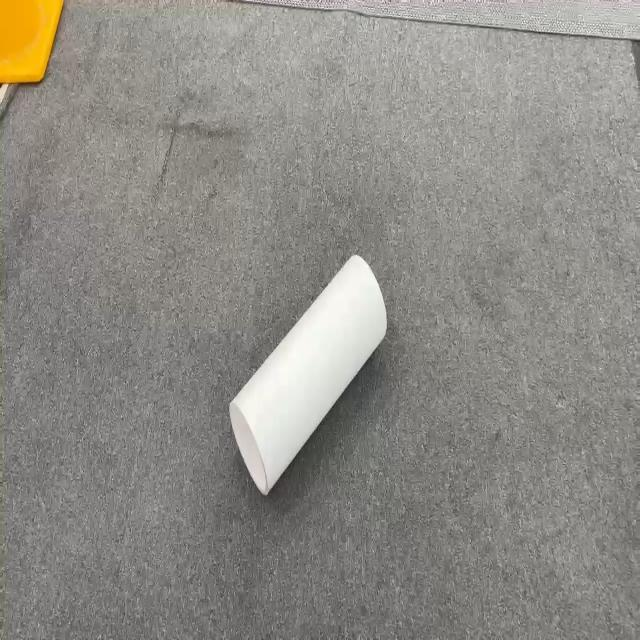coral: (228, 252, 388, 496)
